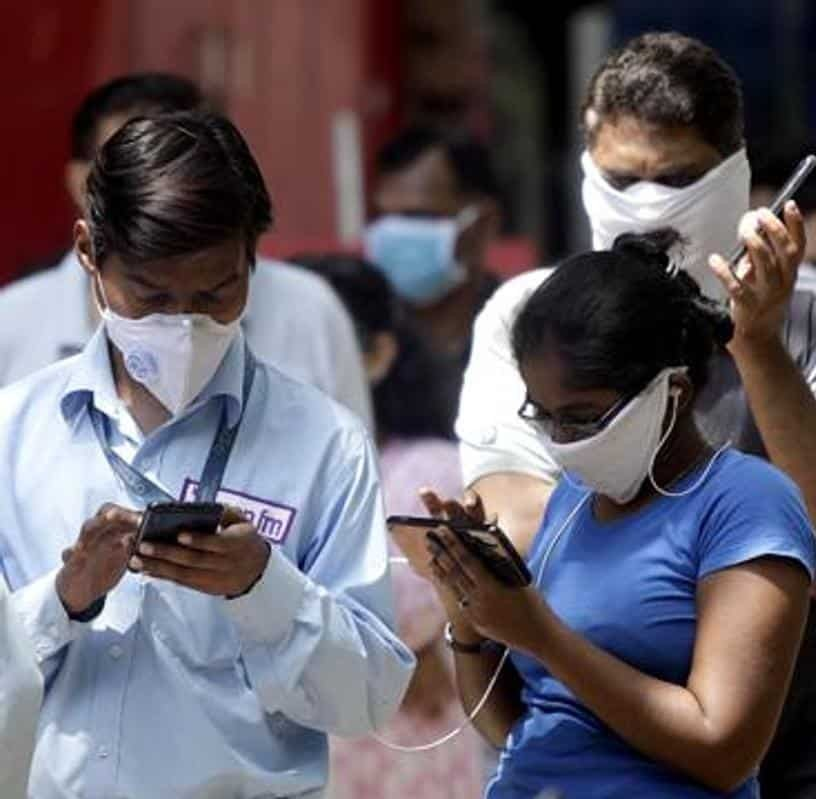with_mask: (517, 306, 703, 517), (75, 209, 264, 415), (564, 92, 760, 266), (365, 148, 508, 302)
